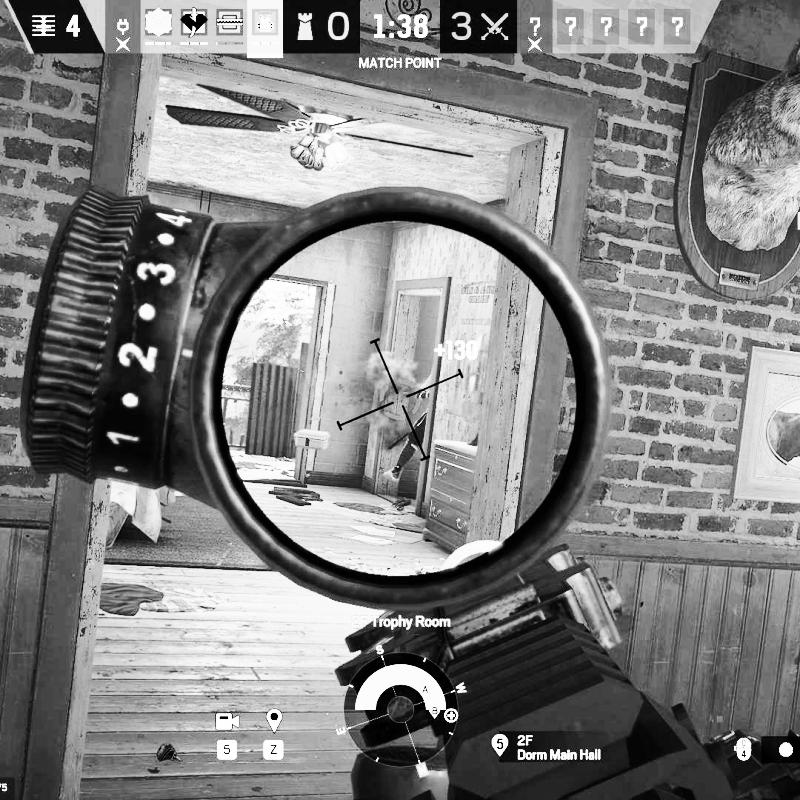Character: (382, 368, 434, 484)
